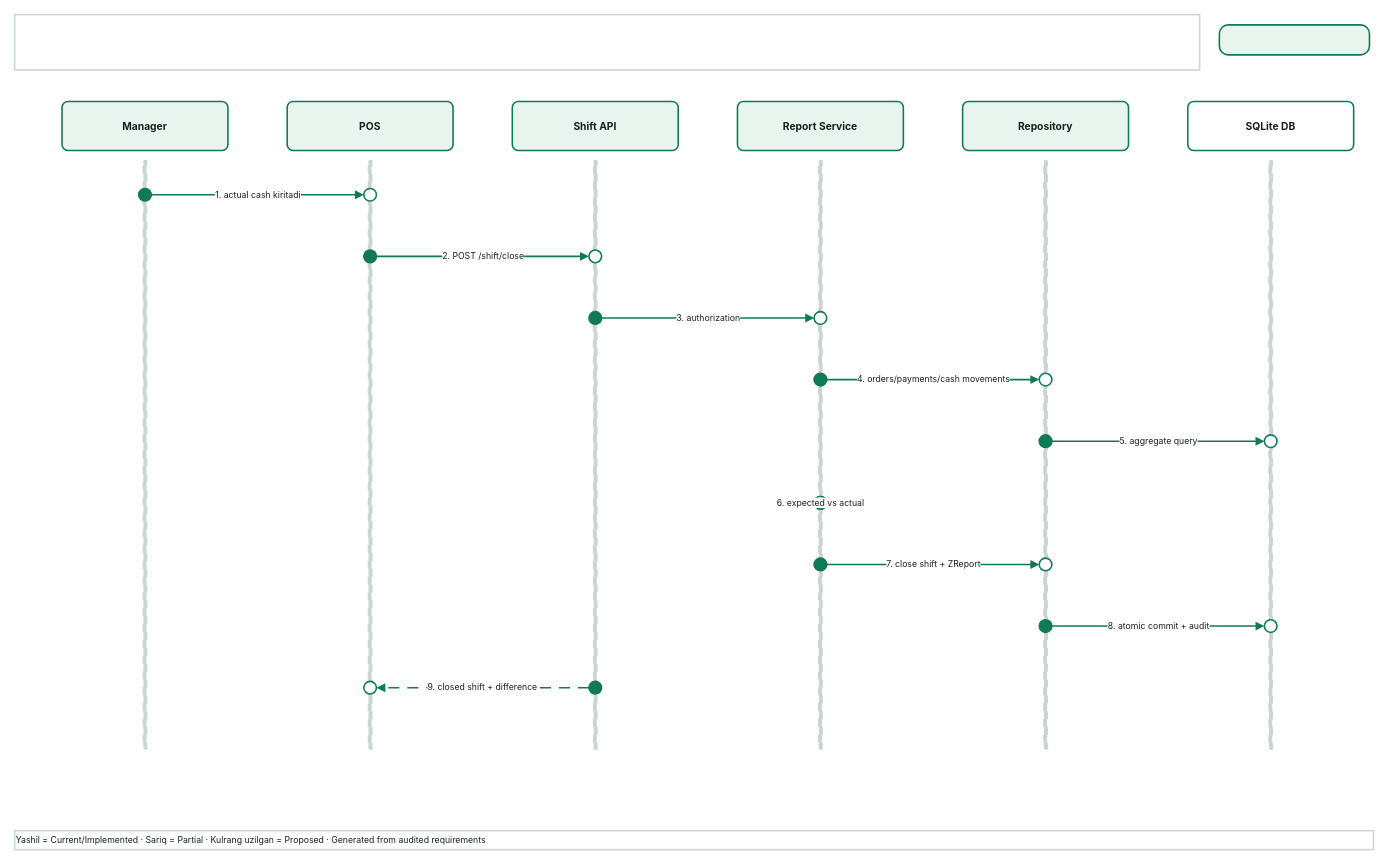
The diagram is 1387 pixels wide and 863 high, and some of its shapes have lost their labels. Each missing label, with the centre of its shape:
Current: the point at 1294,39
D10 · Shift Close Z Report UML Sequence · osonCafe SDLC: the point at 606,41
